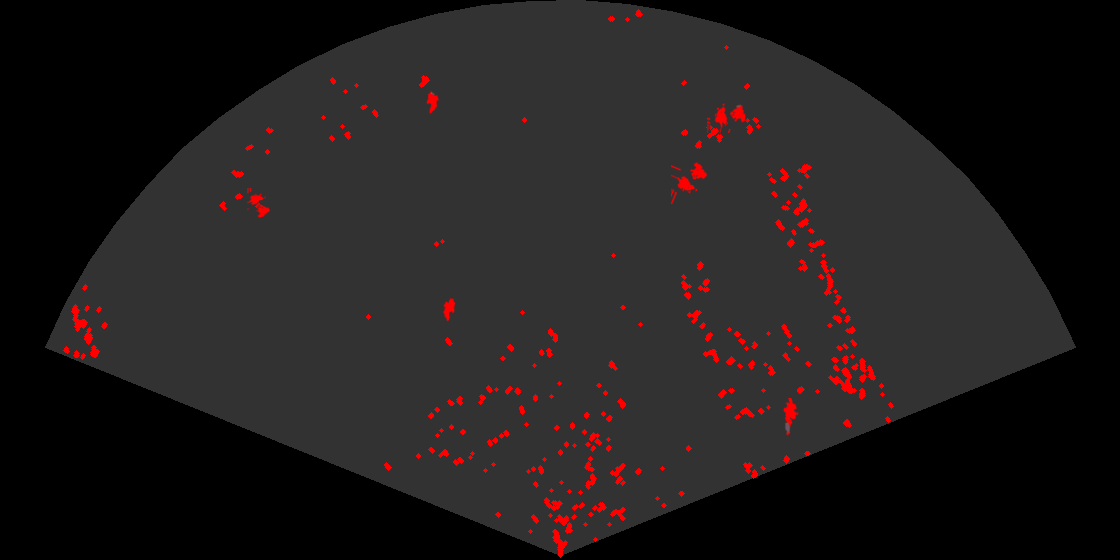AUV: (442, 297, 457, 323), (425, 90, 440, 116)
cage: (671, 160, 709, 204), (707, 102, 747, 133), (247, 188, 272, 220)
frogman: (782, 398, 800, 437)
